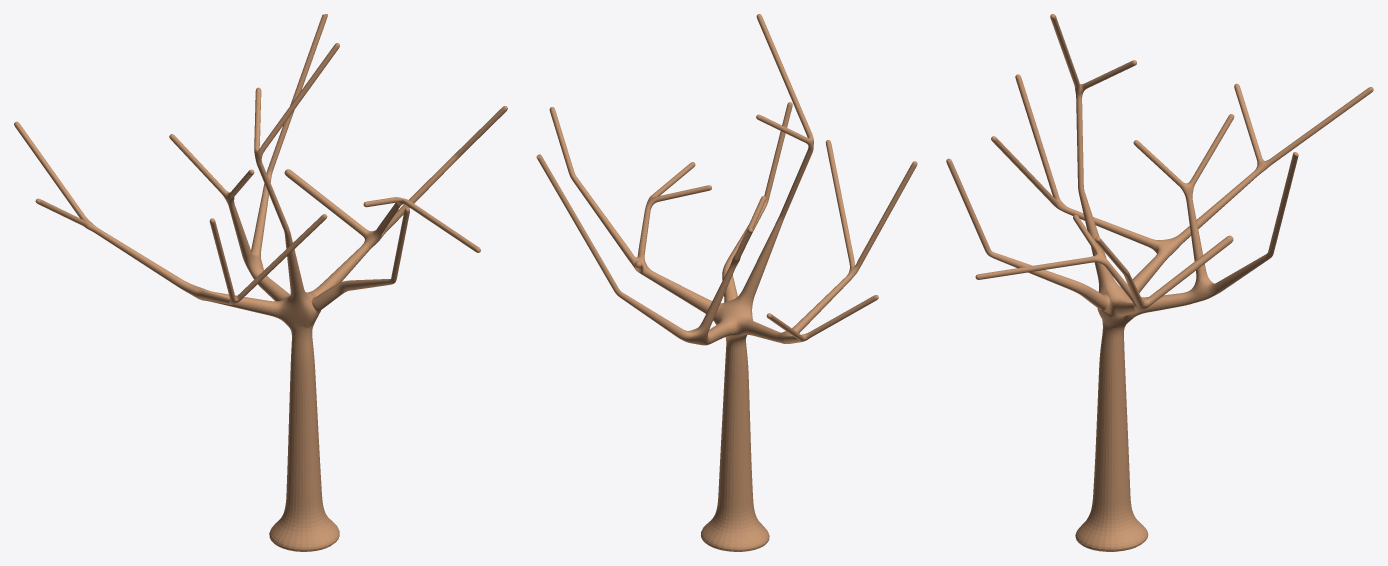
The model's file is BareTree2.fbx.
The picture shows the model from 3 angles, left to right: view 1: azimuth 30°, elevation 25°; view 2: azimuth 150°, elevation 25°; view 3: azimuth 270°, elevation 25°; orthographic projection. The views are drawn at different scales.
Parts seen in each view (by area): view 1: 平面.259; view 2: 平面.259; view 3: 平面.259.
Boxes of the visible parts, x1,y1,x2,y2 form: 平面.259: (14,14,507,551); 平面.259: (536,14,917,551); 平面.259: (946,14,1373,551).
Bounding box in the file's own units: 3817 × 4675 × 3418.
